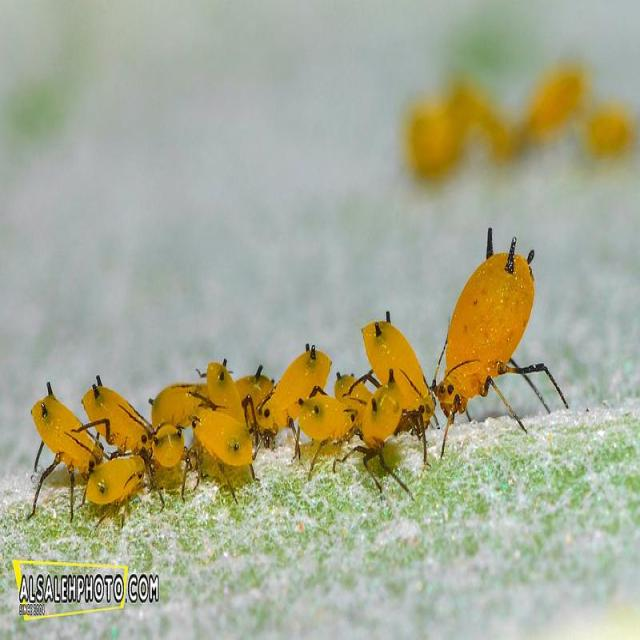Aphids: (431, 238, 571, 474), (356, 301, 434, 468), (249, 335, 336, 447), (23, 378, 113, 483), (79, 368, 163, 471), (186, 404, 264, 488), (76, 445, 156, 525), (294, 391, 360, 450), (201, 353, 247, 427), (150, 378, 201, 439)
